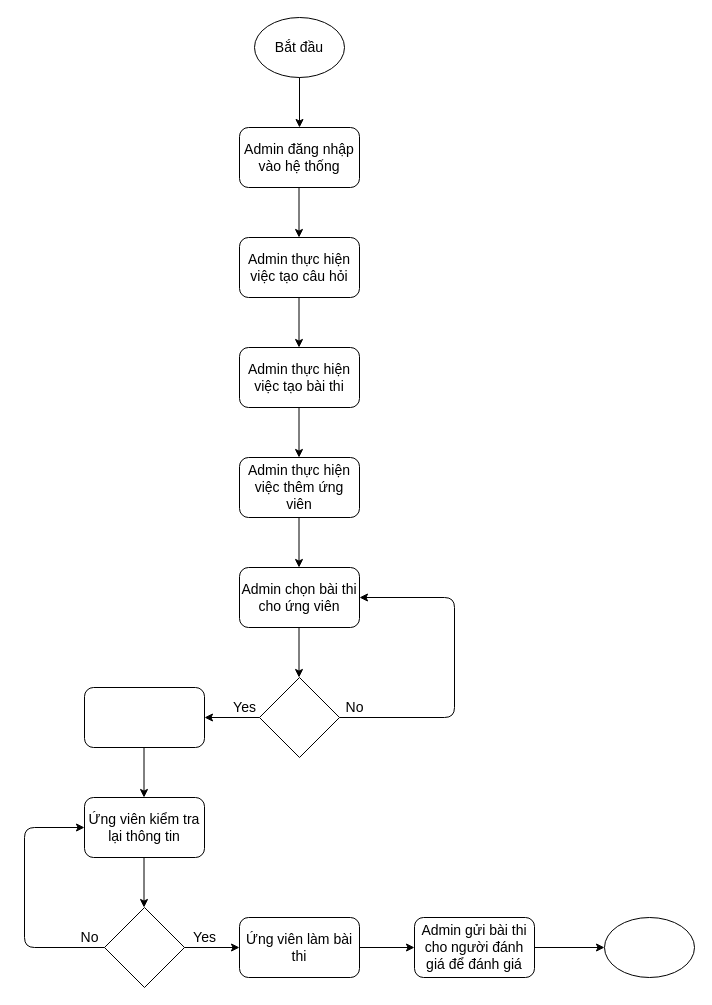
This 712x1005 diagram has some shape labels left out. Here are the shapes that lost their labels. From the top down, the box of each, then its label:
(84, 686, 204, 748): Admin gửi bài thi cho ứng viên
(258, 676, 340, 758): Đồng ý
(104, 906, 184, 988): Xác nhận
(604, 916, 694, 978): Kết thúc
